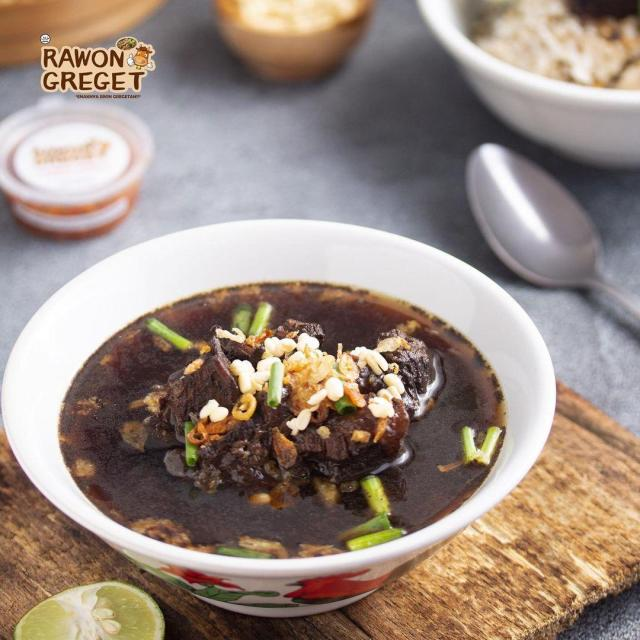Rawon: (66, 286, 490, 544)
